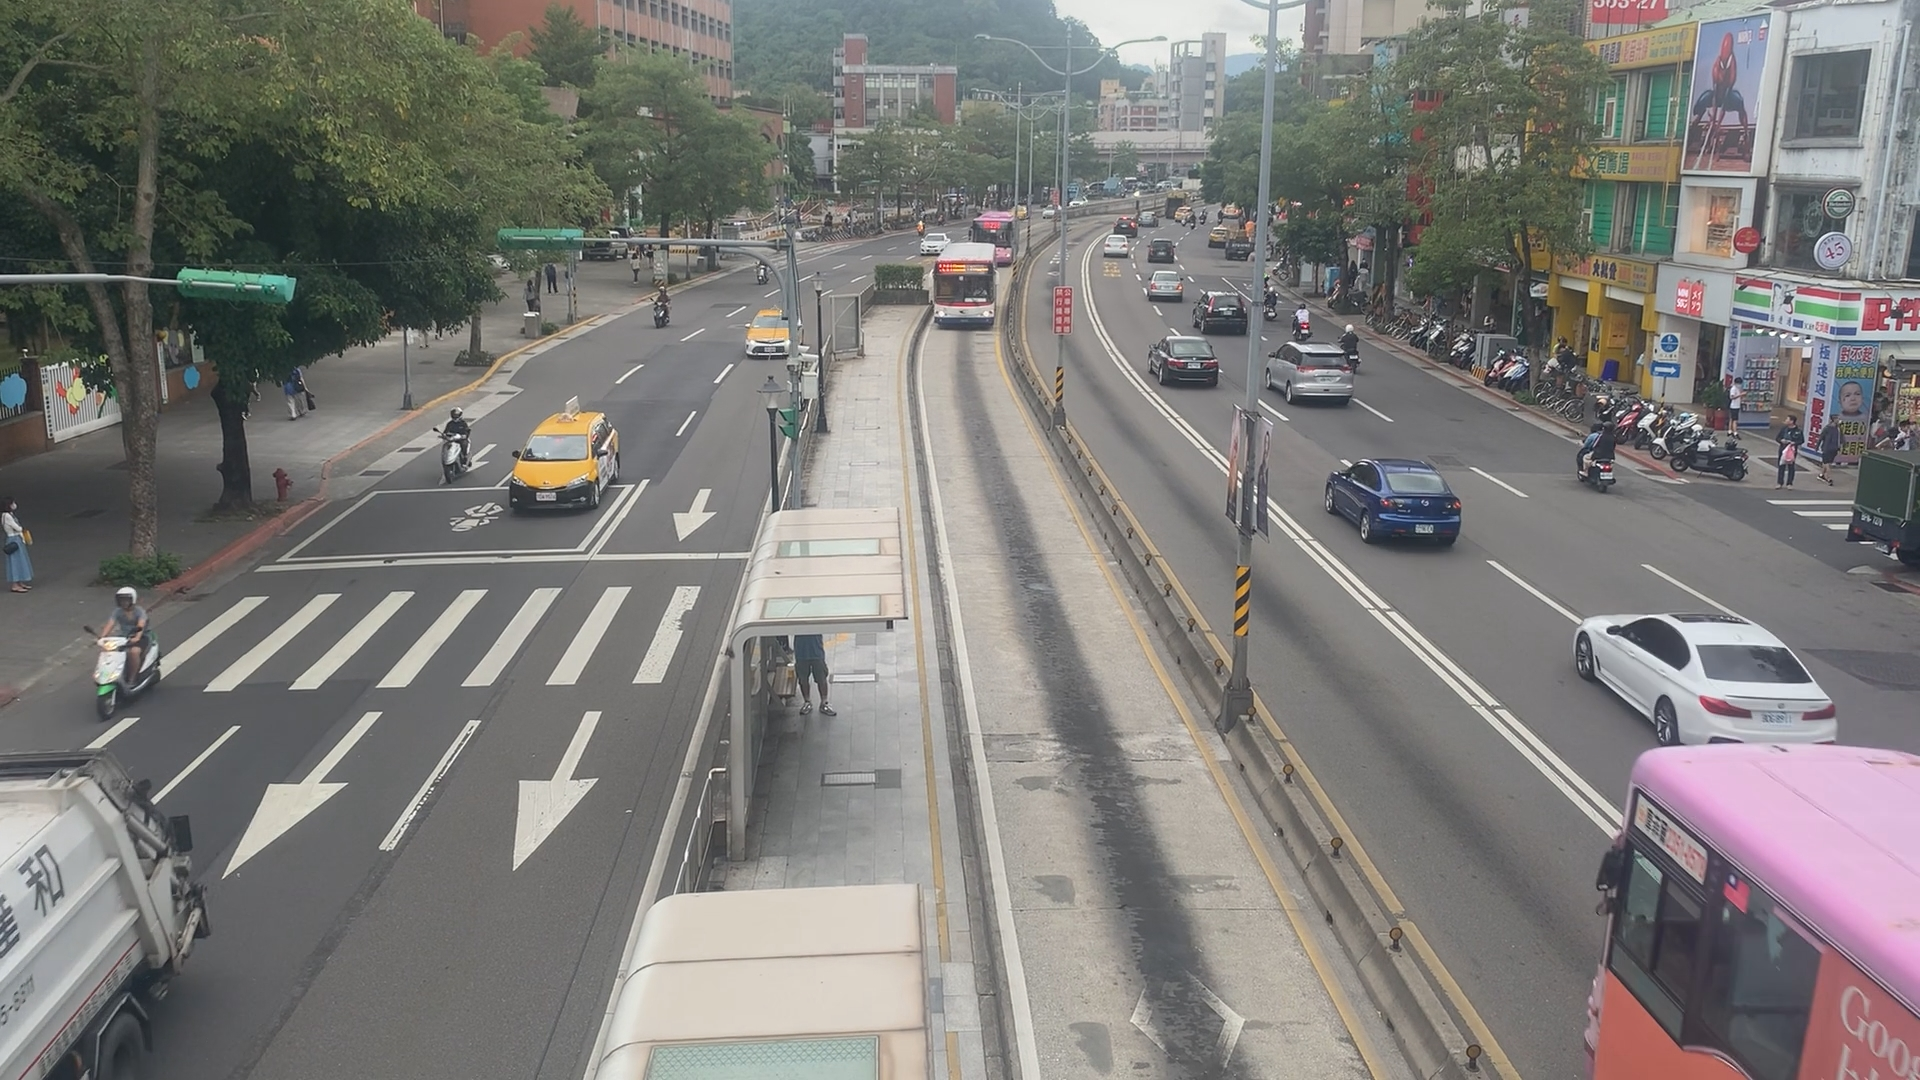Bus: (1568, 742, 1920, 1080), (1, 752, 219, 1077), (928, 244, 1006, 324), (967, 206, 1025, 272)
Business Passenger Car: (512, 402, 611, 516), (740, 309, 800, 353)
Motorcycle: (87, 589, 158, 707), (425, 405, 485, 491), (1572, 414, 1627, 495), (1335, 318, 1364, 378), (647, 284, 674, 334), (752, 255, 781, 294), (1287, 302, 1313, 342), (1261, 284, 1280, 322)
Private Passenger Car: (1571, 605, 1847, 749), (1327, 458, 1462, 545), (1263, 338, 1352, 404), (1147, 336, 1222, 393), (1192, 284, 1245, 334), (1145, 266, 1187, 305), (914, 229, 949, 258), (1149, 233, 1178, 265), (1100, 229, 1131, 256), (1131, 203, 1160, 227), (1114, 214, 1138, 237)
